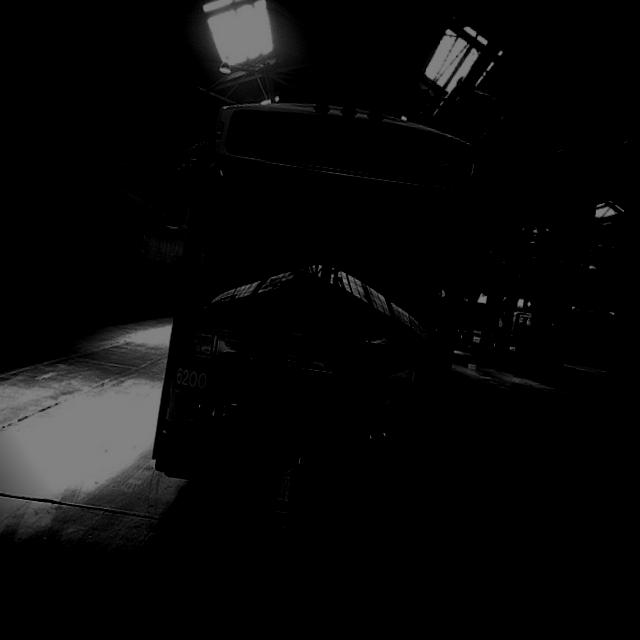Vehicle: (120, 82, 496, 526)
